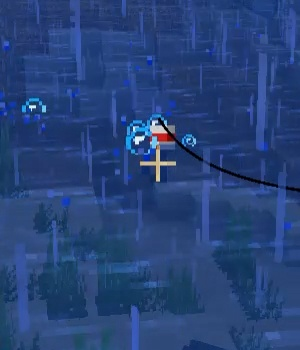up: (143, 114, 178, 158)
